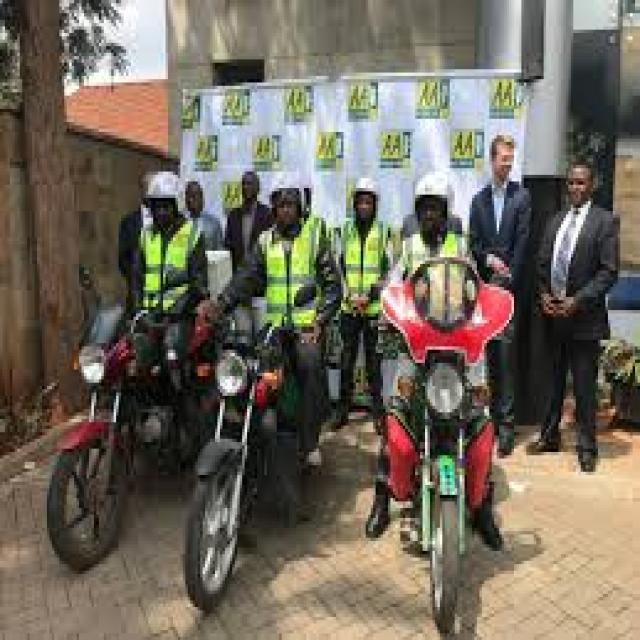bodaboda: (0, 214, 190, 636), (372, 229, 532, 637), (185, 260, 343, 640)
